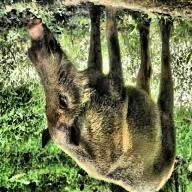boar: (9, 1, 192, 192)
